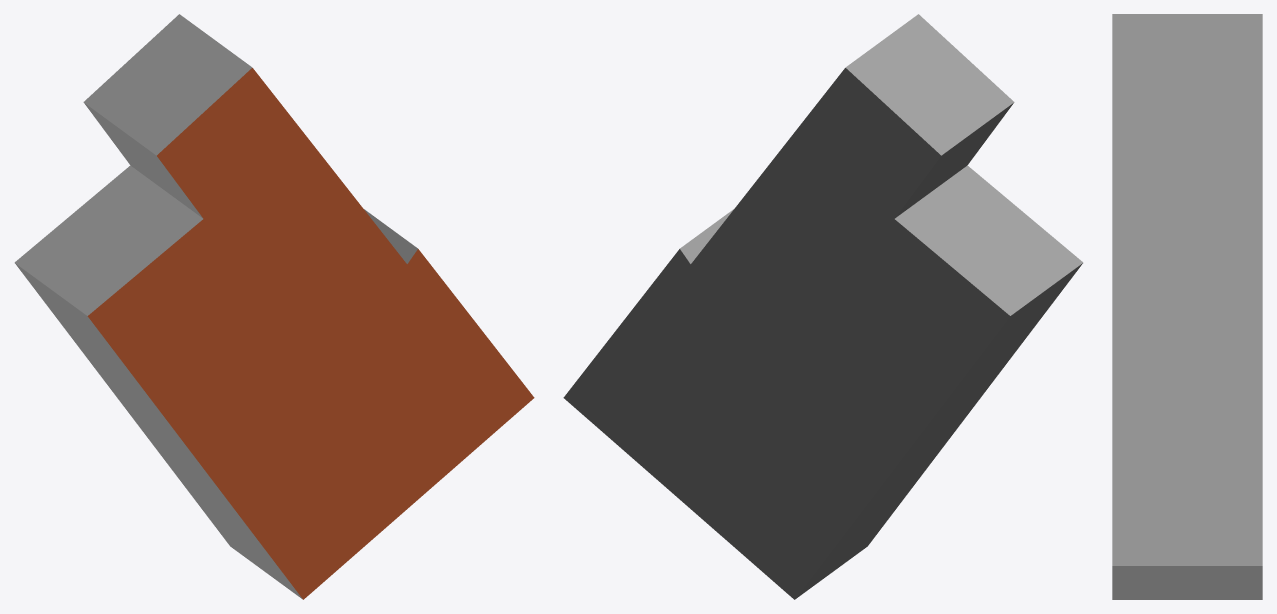
Rendered from construction_4761_assumed_A_Casa_h6m.obj.
The picture shows the model from 3 angles, left to right: view 1: azimuth 30°, elevation 25°; view 2: azimuth 150°, elevation 25°; view 3: azimuth 270°, elevation 25°; orthographic projection. The views are drawn at different scales.
Parts seen in each view (by area): view 1: construction_4761_assumed_A_Casa; view 2: construction_4761_assumed_A_Casa; view 3: construction_4761_assumed_A_Casa.
Part boxes in pixels (box(x1,y1,x2,y2)): construction_4761_assumed_A_Casa: box(14, 14, 534, 599); construction_4761_assumed_A_Casa: box(563, 14, 1083, 599); construction_4761_assumed_A_Casa: box(1112, 14, 1262, 599).
Size of the model in its own units: 21.17 by 24.66 by 6.
